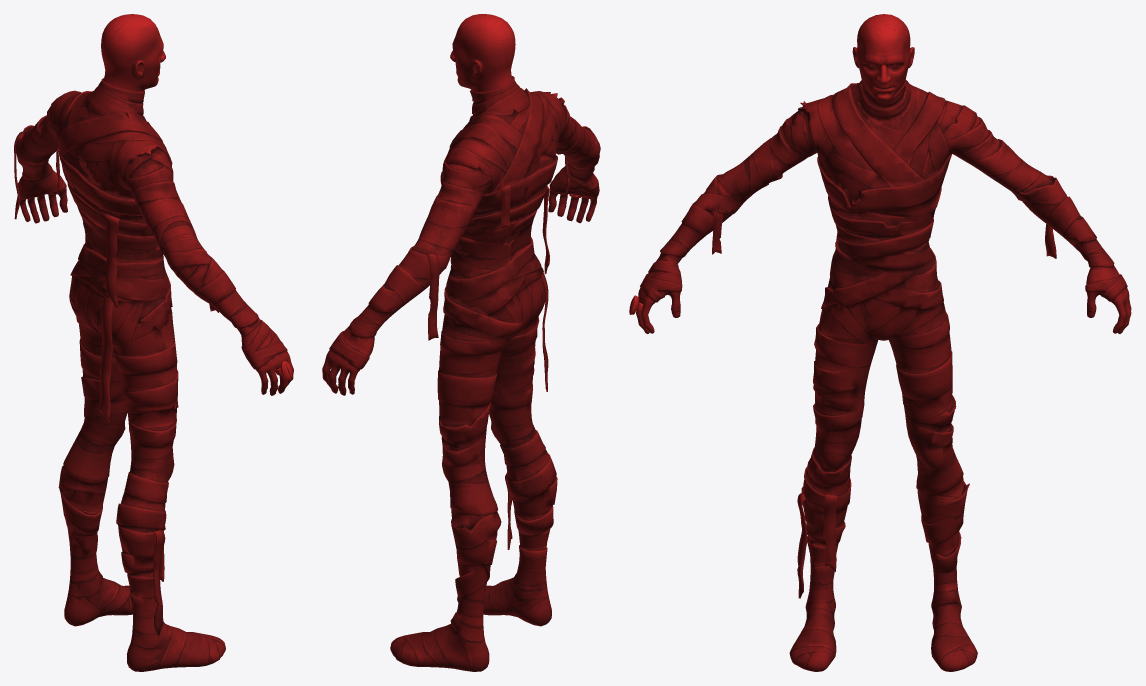
The model's file is Blood Mummy.fbx.
3 renders of one model, left to right at view 1: azimuth 30°, elevation 25°; view 2: azimuth 150°, elevation 25°; view 3: azimuth 270°, elevation 25°, orthographic.
Parts seen in each view (by area): view 1: Blood_Mummy; view 2: Blood_Mummy; view 3: Blood_Mummy.
Part boxes in pixels (box(x1,y1,x2,y2)): Blood_Mummy: box(14, 14, 293, 671); Blood_Mummy: box(322, 14, 600, 671); Blood_Mummy: box(629, 14, 1131, 671).
Bounding box in the file's own units: 34.79 × 181 × 131.
Materials: 2 (2 with a texture image).
